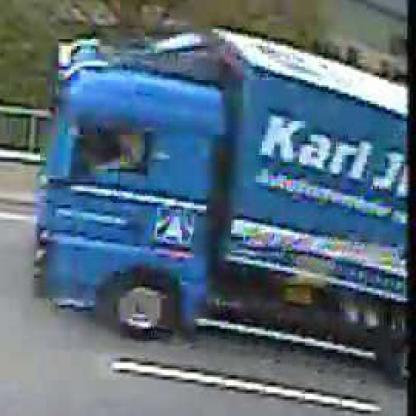truck: (44, 34, 416, 385)
